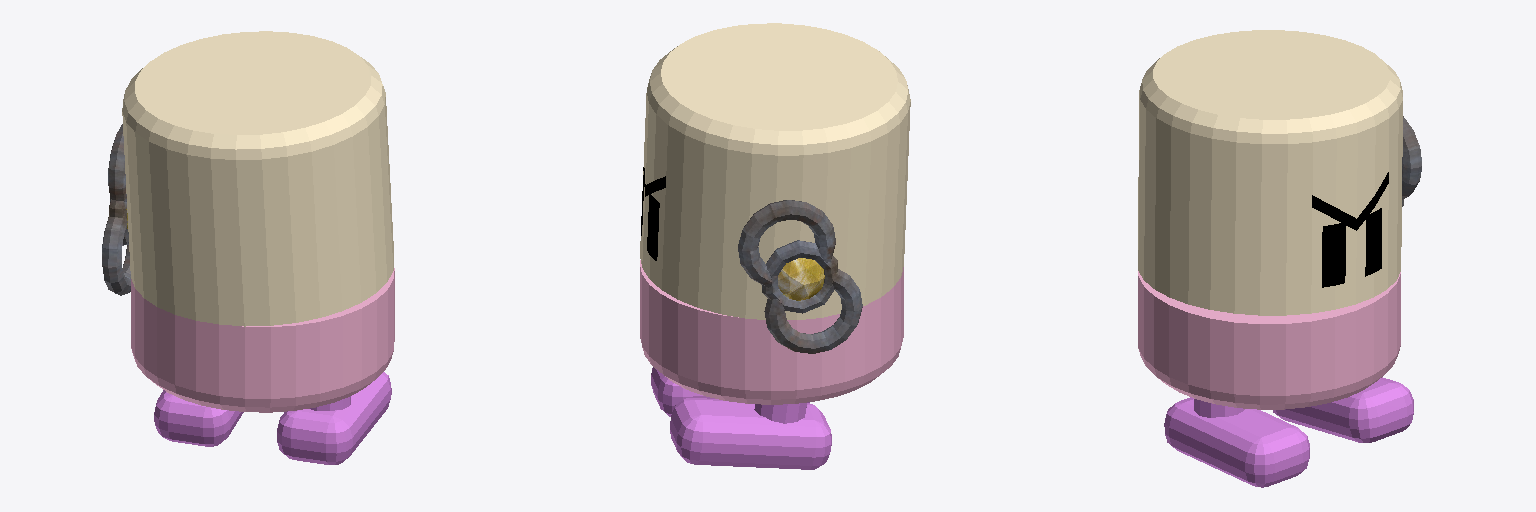
The picture shows the model from 3 angles: view 1: azimuth 30°, elevation 25°; view 2: azimuth 150°, elevation 25°; view 3: azimuth 270°, elevation 25°; orthographic projection.
Parts seen in each view (by area): view 1: Head, Jaw, RightLeg, WindupKey, LeftLeg; view 2: Head, Jaw, WindupKey, LeftLeg, RightLeg; view 3: Head, Jaw, RightLeg, LeftLeg, WindupKey.
Part boxes in pixels (x1,y1,x2,y2): Head: (122, 31, 393, 326); Jaw: (131, 268, 394, 412); RightLeg: (277, 372, 391, 464); WindupKey: (102, 124, 130, 295); LeftLeg: (154, 390, 243, 446); Head: (640, 23, 910, 319); Jaw: (640, 260, 903, 404); WindupKey: (738, 200, 862, 353); LeftLeg: (670, 398, 831, 469); RightLeg: (651, 367, 809, 416); Head: (1138, 30, 1402, 315); Jaw: (1138, 271, 1400, 409); RightLeg: (1164, 397, 1309, 487); LeftLeg: (1273, 377, 1413, 442); WindupKey: (1402, 116, 1421, 206).
Size of the model in its own units: 108 by 153 by 108.
6 materials, 2 textured.